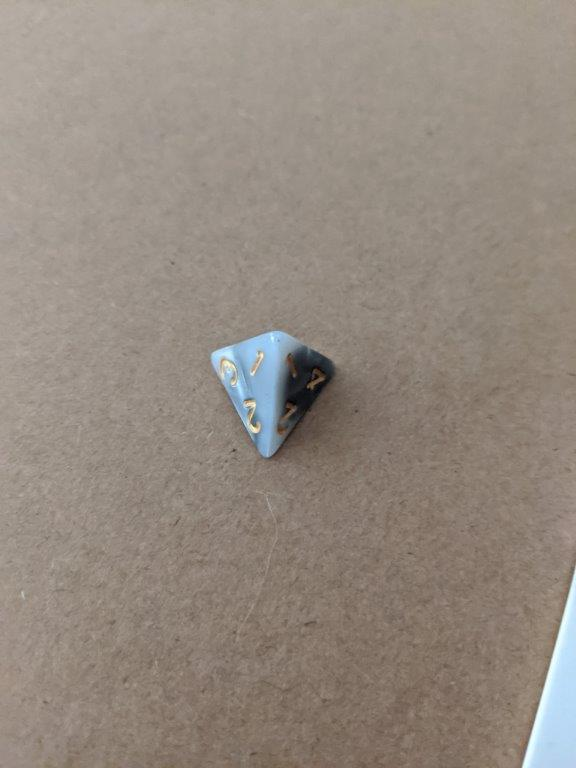d4-1: (205, 328, 341, 461)
